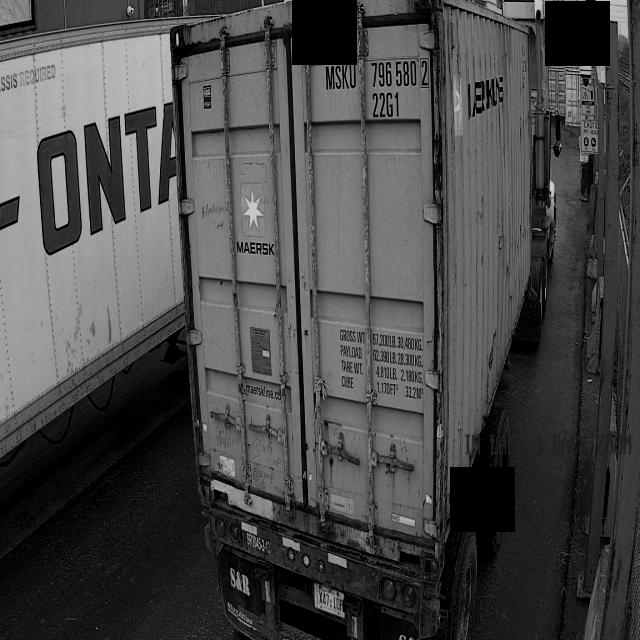container_company_logo: (236, 176, 276, 260)
container_number: (322, 55, 439, 123)
driver: (573, 133, 587, 208)
license_plate: (313, 579, 351, 616)
other_container_info: (334, 324, 428, 412)
truck_with_container: (171, 0, 561, 640), (0, 21, 182, 462)
